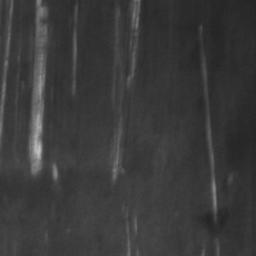Bright scratch: (198, 26, 218, 219), (28, 0, 50, 175), (127, 0, 142, 87), (72, 0, 79, 95)
